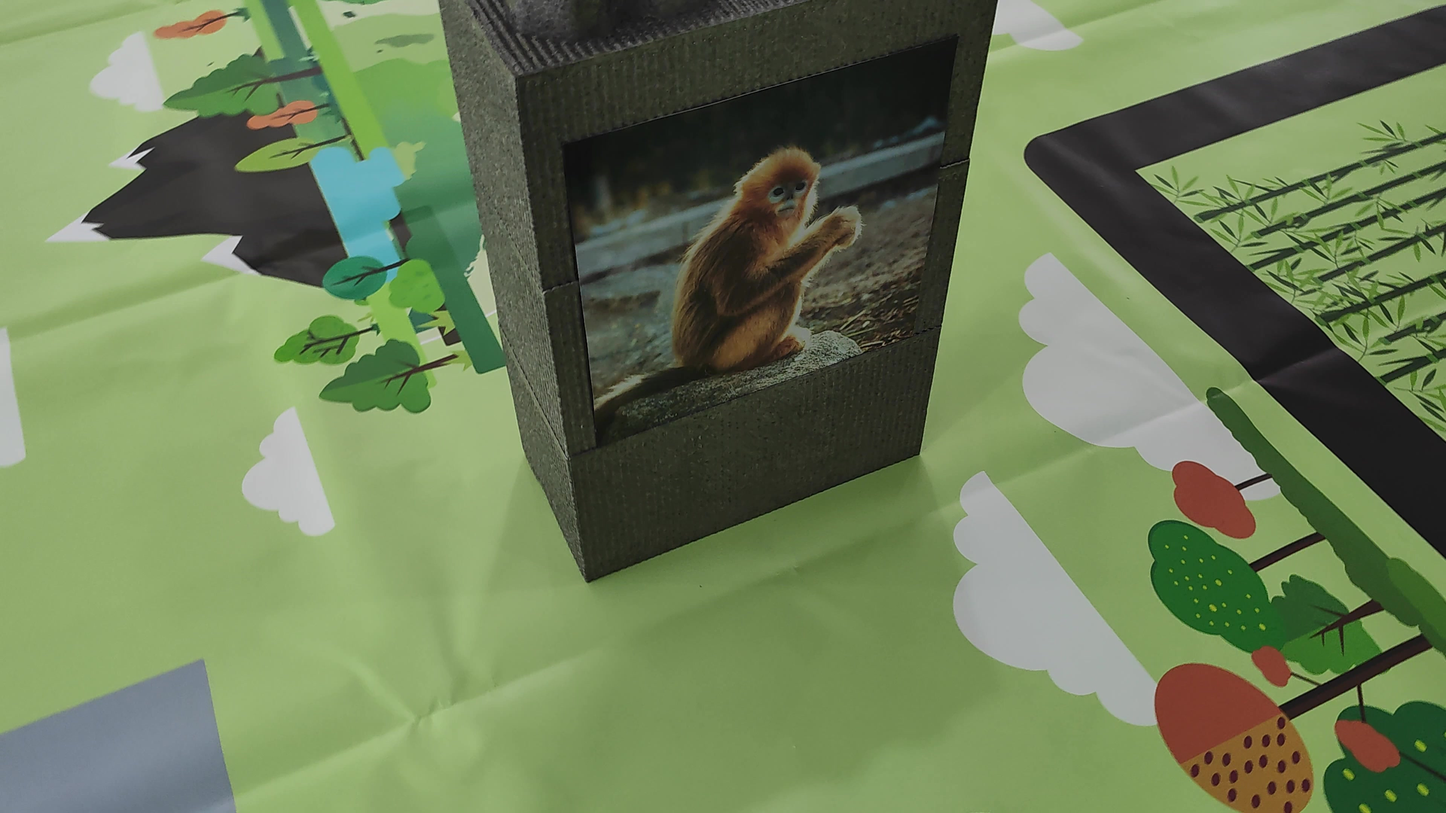monkey: (581, 141, 908, 452)
